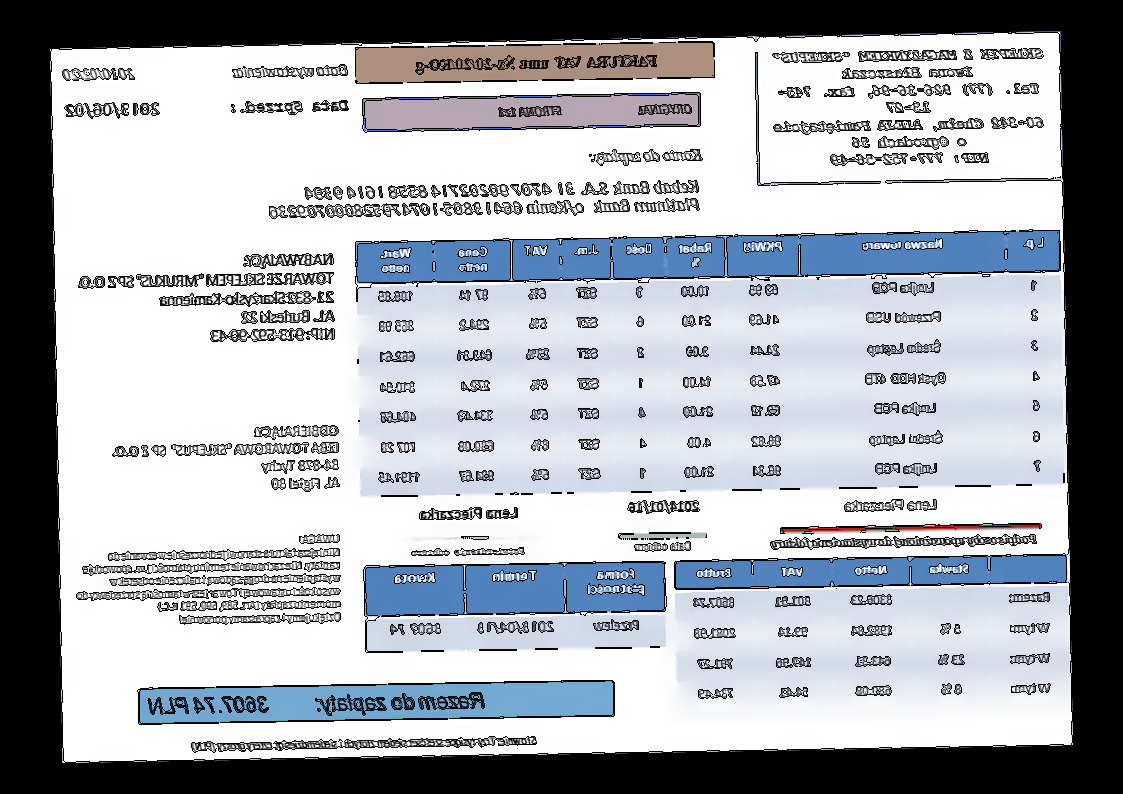Table: (354, 228, 1067, 498), (674, 553, 1071, 714), (362, 561, 667, 653)
TextBox: (769, 42, 1048, 169), (76, 531, 345, 630), (74, 251, 338, 349), (266, 177, 701, 221), (111, 422, 342, 496), (145, 689, 490, 718), (192, 731, 538, 755), (413, 51, 660, 76), (768, 531, 1039, 553), (496, 100, 695, 121), (587, 145, 705, 168), (229, 96, 349, 117), (231, 61, 349, 80), (419, 503, 522, 523), (64, 100, 162, 119), (843, 496, 939, 514), (411, 543, 526, 558), (626, 498, 702, 516), (62, 65, 137, 82), (633, 539, 692, 554)
